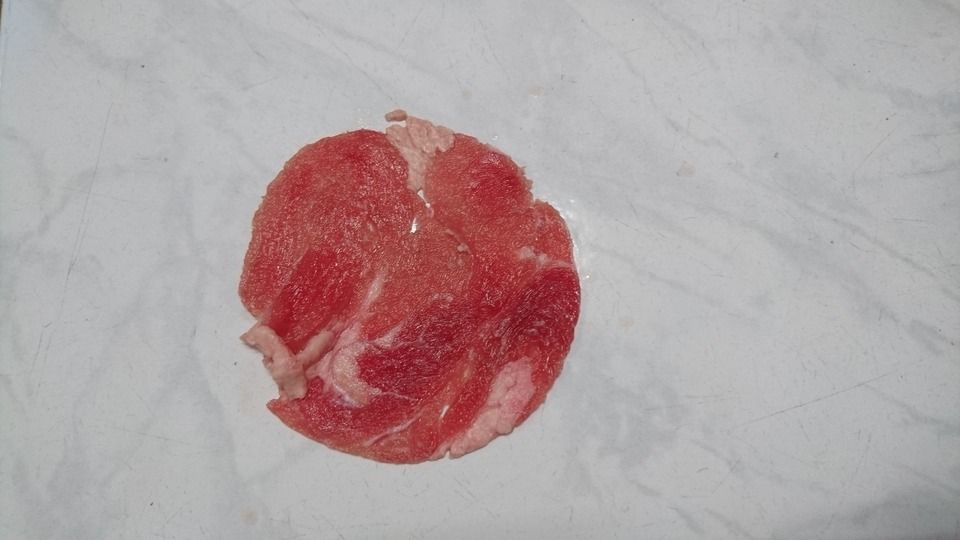restructured meat: (227, 122, 592, 463)
